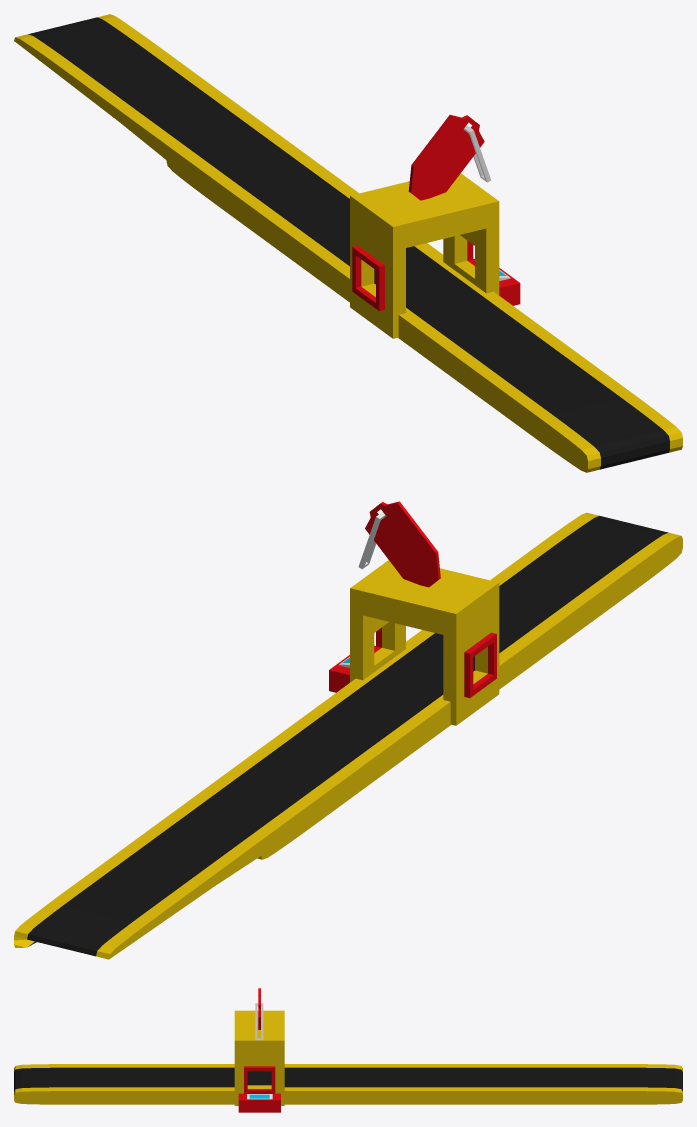
Rendered from maquina.fbx.
3 views of the same model, one above another, from view 1: azimuth 30°, elevation 25°; view 2: azimuth 150°, elevation 25°; view 3: azimuth 270°, elevation 25° (orthographic). The views are drawn at different scales.
Parts seen in each view (by area): view 1: Cube, Cube.001, Cube.002; view 2: Cube, Cube.001, Cube.002; view 3: Cube, Cube.001, Cube.004, Cube.003.
Part boxes in pixels (x1=…): Cube: x1=14, y1=14, x2=682, y2=472; Cube.001: x1=350, y1=173, x2=499, y2=338; Cube.002: x1=408, y1=114, x2=484, y2=200; Cube: x1=14, y1=512, x2=682, y2=959; Cube.001: x1=350, y1=560, x2=499, y2=725; Cube.002: x1=365, y1=501, x2=440, y2=587; Cube: x1=14, y1=1064, x2=682, y2=1104; Cube.001: x1=234, y1=1010, x2=284, y2=1105; Cube.004: x1=238, y1=1093, x2=280, y2=1112; Cube.003: x1=255, y1=1003, x2=263, y2=1040.
Bounding box in the file's own units: 367 × 486 × 2673.
